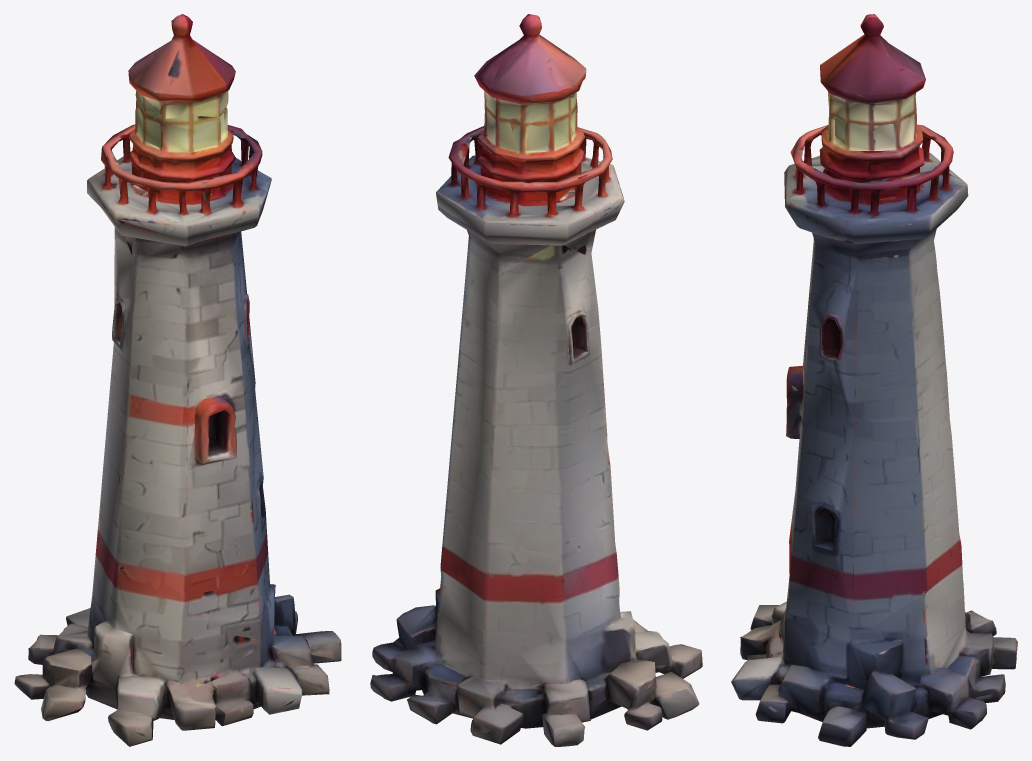
Rendered from lighthouse.glb.
3 renders of one model, left to right at view 1: azimuth 30°, elevation 25°; view 2: azimuth 150°, elevation 25°; view 3: azimuth 270°, elevation 25°, orthographic.
Parts seen in each view (by area): view 1: tripo_node_adde6064; view 2: tripo_node_adde6064; view 3: tripo_node_adde6064.
Boxes of the visible parts, <box> form: tripo_node_adde6064: <box>14,14,341,746</box>; tripo_node_adde6064: <box>370,14,702,746</box>; tripo_node_adde6064: <box>731,14,1017,746</box>.
Bounding box in the file's own units: 46.42 × 99.3 × 38.88.
1 material, 1 textured.
